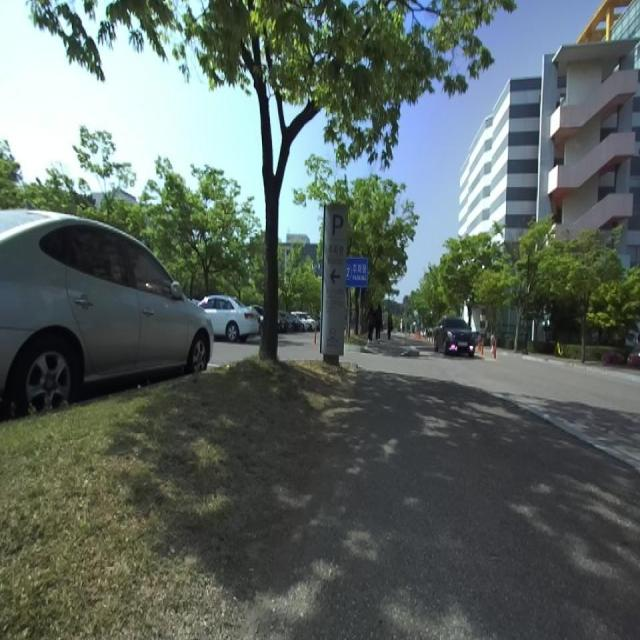sidewalk: (246, 371, 640, 639)
